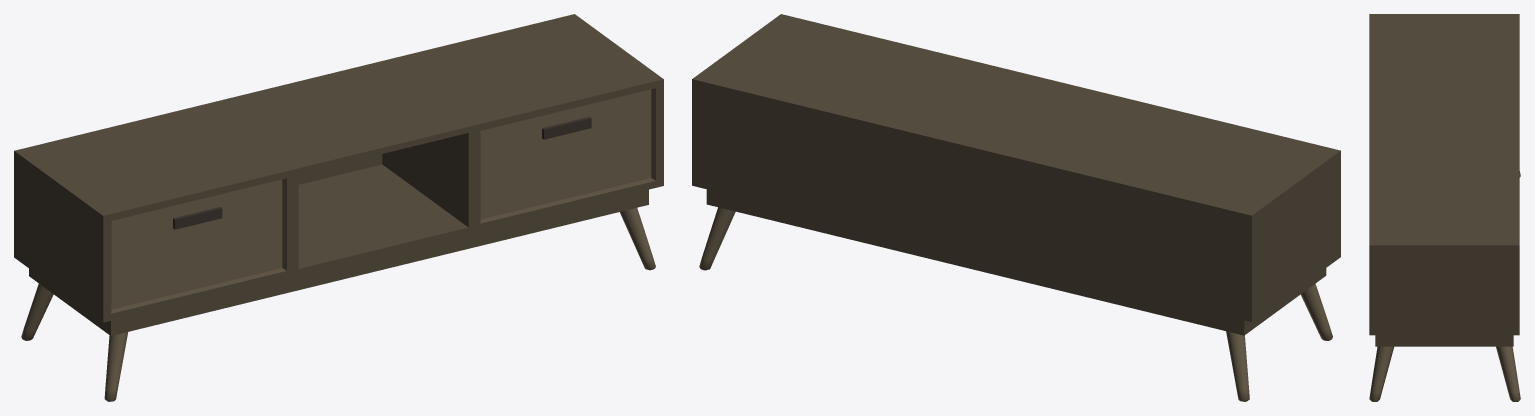
The model's file is Drawer_2.glb.
3 renders of one model, left to right at view 1: azimuth 30°, elevation 25°; view 2: azimuth 150°, elevation 25°; view 3: azimuth 270°, elevation 25°, orthographic. The views are drawn at different scales.
Parts seen in each view (by area): view 1: Drawer_2; view 2: Drawer_2; view 3: Drawer_2.
Part boxes in pixels (x1,y1,x2,y2): Drawer_2: [14, 14, 663, 401]; Drawer_2: [692, 14, 1340, 401]; Drawer_2: [1369, 14, 1520, 401].
Size of the model in its own units: 1.97 by 0.6381 by 0.547.
3 materials, 3 textured.
